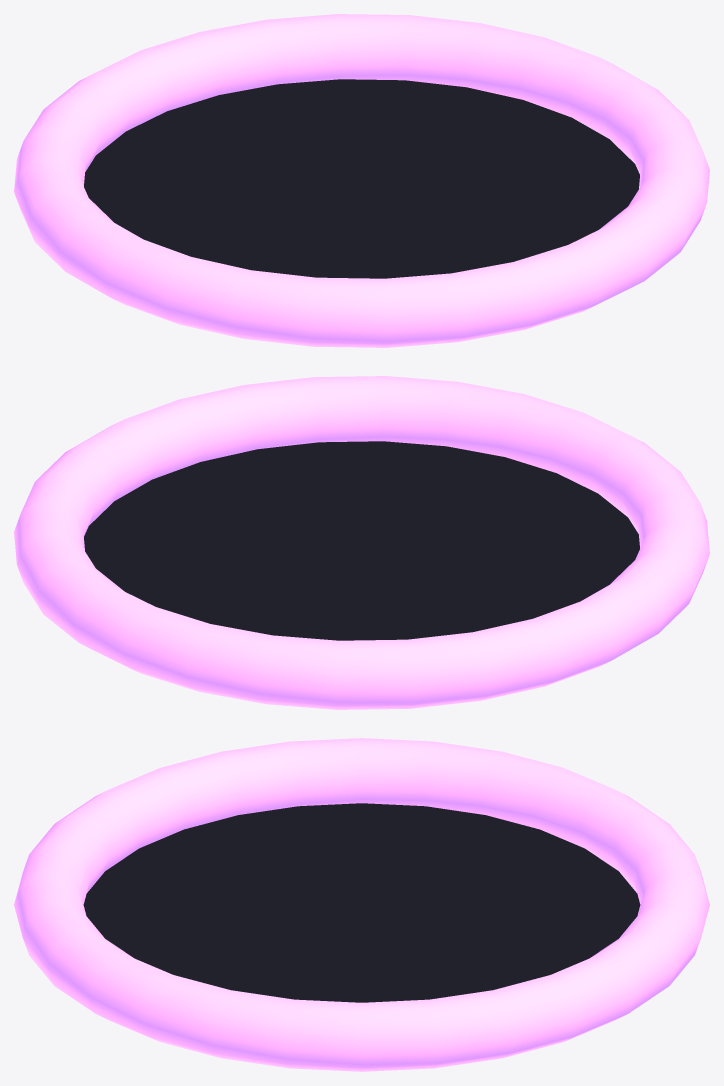
The model's file is rift.glb.
3 renders of one model, top to bottom at view 1: azimuth 30°, elevation 25°; view 2: azimuth 150°, elevation 25°; view 3: azimuth 270°, elevation 25°, orthographic.
Visible parts, largest first — view 1: Rift; view 2: Rift; view 3: Rift.
Part boxes in pixels (x1=…): Rift: x1=14, y1=14, x2=709, y2=347; Rift: x1=14, y1=376, x2=709, y2=709; Rift: x1=14, y1=738, x2=709, y2=1071.
Size of the model in its own units: 1 by 0.0976 by 1.
